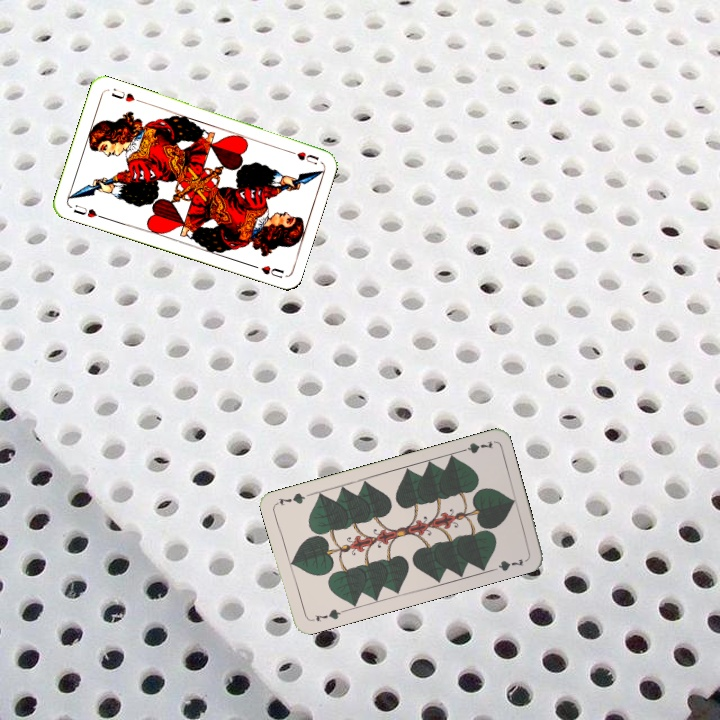G7: (455, 437, 496, 456), (311, 605, 347, 624)
HU: (283, 146, 321, 167), (69, 201, 106, 221)
